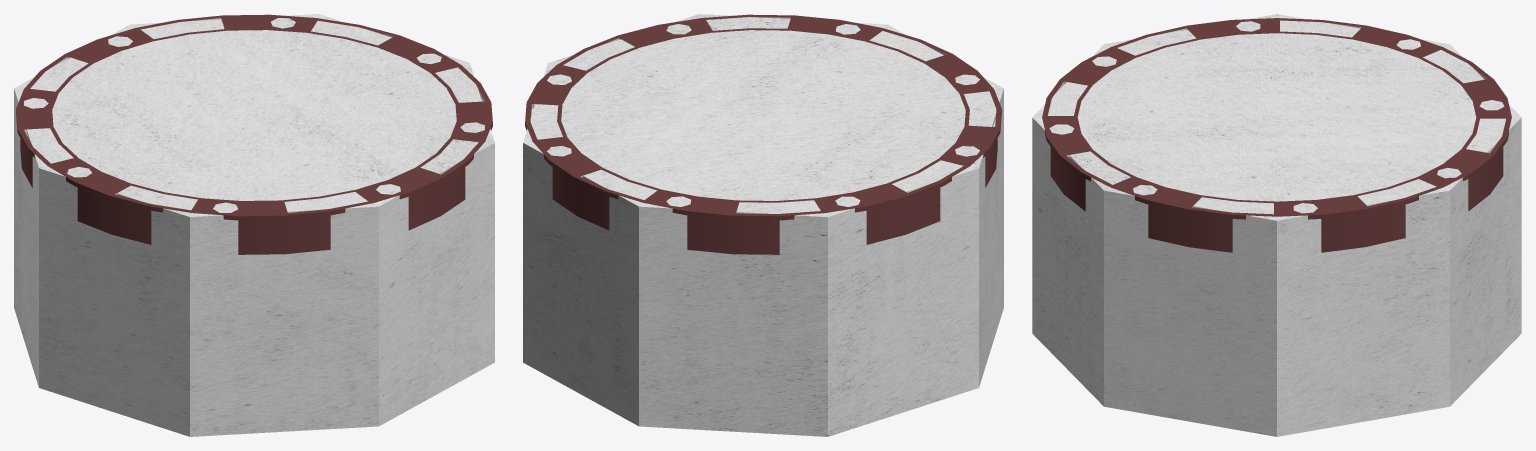
File: hbp_poker_table.dae
3 renders of one model, left to right at view 1: azimuth 30°, elevation 25°; view 2: azimuth 150°, elevation 25°; view 3: azimuth 270°, elevation 25°, orthographic.
Visible parts, largest first — view 1: colmesh-1, hbp_poker_table_a800; view 2: colmesh-1, hbp_poker_table_a800; view 3: colmesh-1, hbp_poker_table_a800.
Part boxes in pixels (left/top/right/bottom): colmesh-1: left=14, top=14, right=494, bottom=436; hbp_poker_table_a800: left=16, top=14, right=492, bottom=254; colmesh-1: left=523, top=14, right=1003, bottom=436; hbp_poker_table_a800: left=525, top=14, right=1001, bottom=254; colmesh-1: left=1032, top=14, right=1521, bottom=436; hbp_poker_table_a800: left=1042, top=18, right=1511, bottom=252.
Bounding box in the file's own units: 1.84 × 1.84 × 0.8962.
